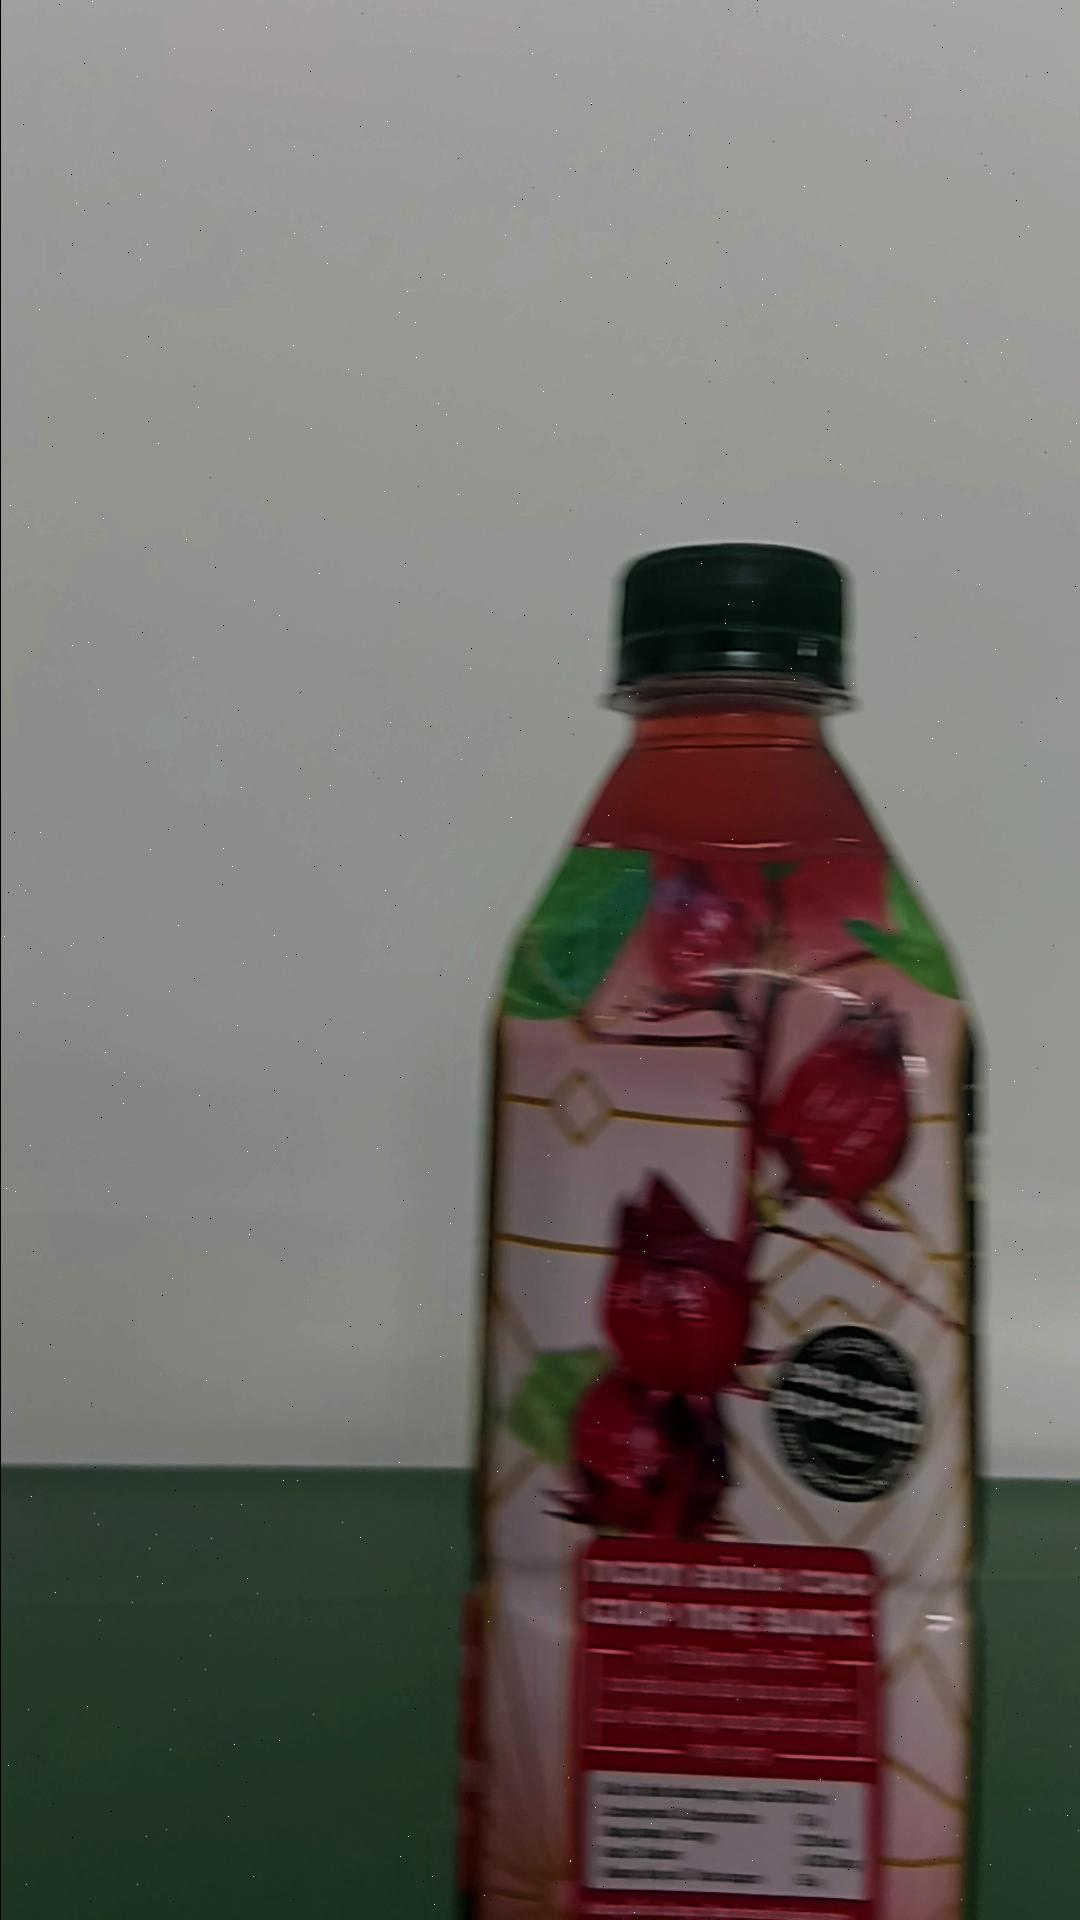khong loi: (455, 539, 984, 1915)
